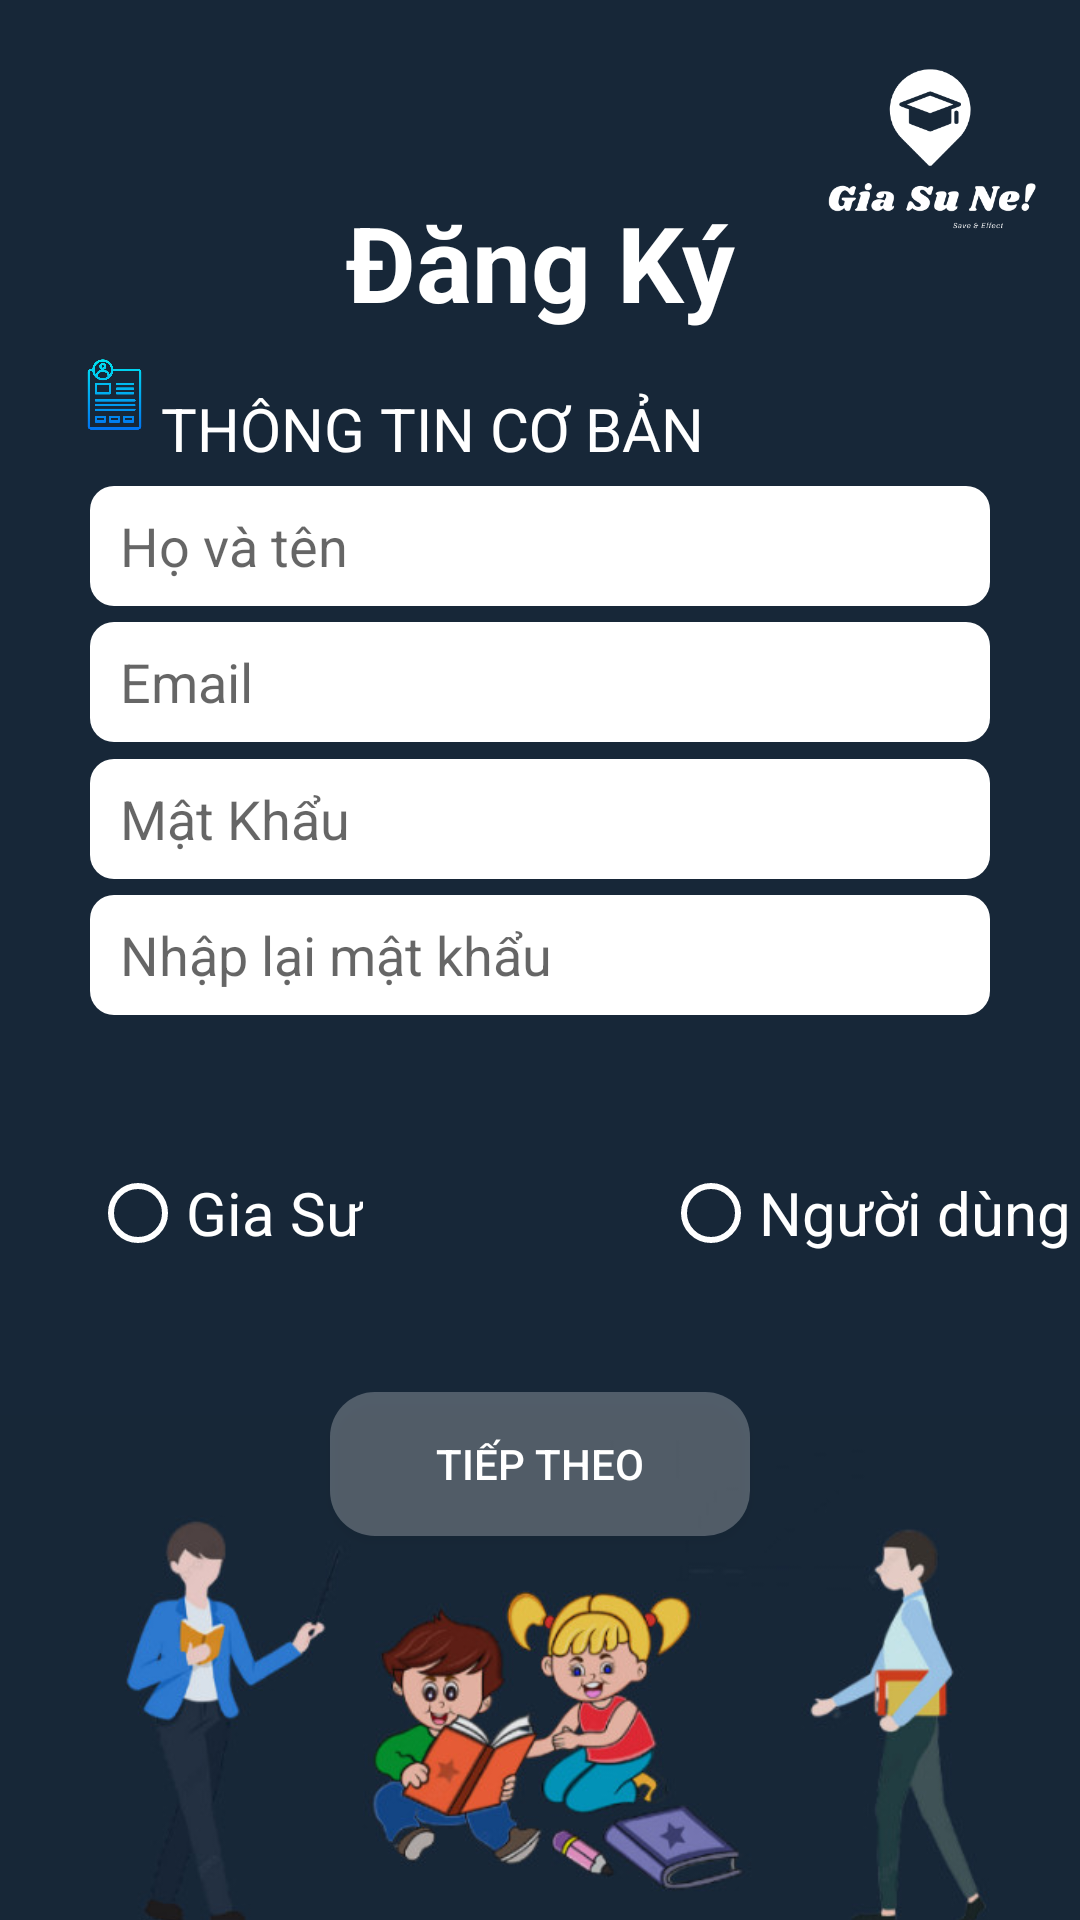

Named icons in this screenshot (1080x1920) and their bounding boxes, (x1, y1, x2, y2):
profile: (87, 359, 142, 430)
